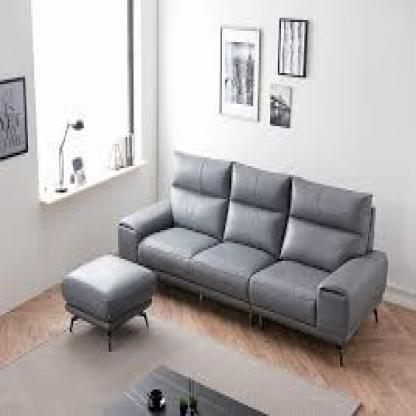sofa: (65, 155, 399, 363)
